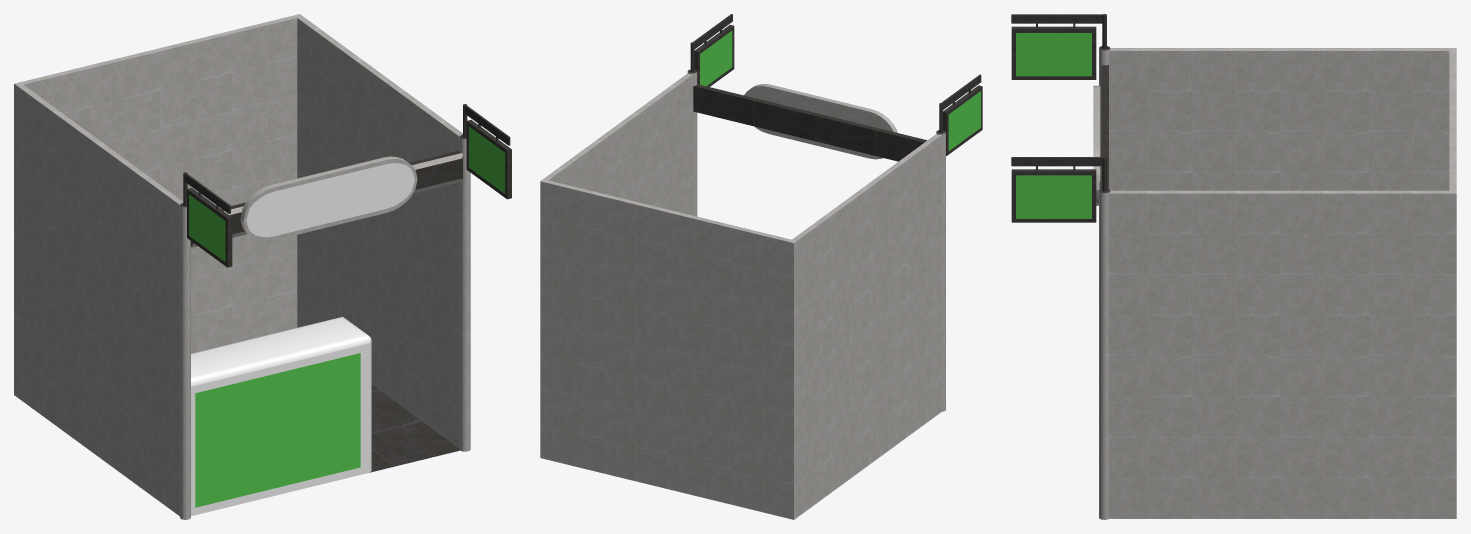
File: BotthStand.FBX
3 views of the same model, side by side, from view 1: azimuth 30°, elevation 25°; view 2: azimuth 150°, elevation 25°; view 3: azimuth 270°, elevation 25° (orthographic). The views are drawn at different scales.
Visible parts, largest first — view 1: BotthWalls, BoothStand, BoothHeading, Botth3amod, Botth3amod2, BotthLogoHolder; view 2: BotthWalls, BotthLogoHolder, Botth3amod2, BoothHeading, Botth3amod; view 3: BotthWalls, Botth3amod, Botth3amod2, BotthLogoHolder, BoothHeading.
Boxes of the visible parts, x1,y1,x2,y2 form: BotthWalls: (14,14,462,516); BoothStand: (191,316,371,516); BoothHeading: (240,156,417,241); Botth3amod: (459,104,511,451); Botth3amod2: (180,172,232,519); BotthLogoHolder: (190,150,462,247); BotthWalls: (540,73,941,519); BotthLogoHolder: (693,84,926,161); Botth3amod2: (936,74,982,411); BoothHeading: (744,84,897,159); Botth3amod: (687,14,734,216); BotthWalls: (1108,48,1456,518); Botth3amod: (1011,156,1110,519); Botth3amod2: (1011,14,1110,85); BotthLogoHolder: (1099,64,1108,189); BoothHeading: (1093,85,1100,205).
Bounding box in the file's own units: 2.43 × 3.1 × 2.76.
2 materials, 1 textured.
